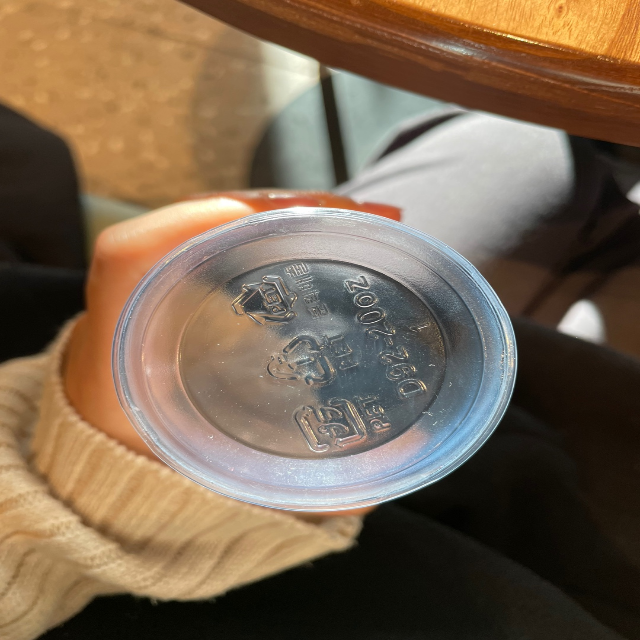pet: (223, 256, 334, 330), (259, 326, 370, 393), (290, 391, 392, 454)
